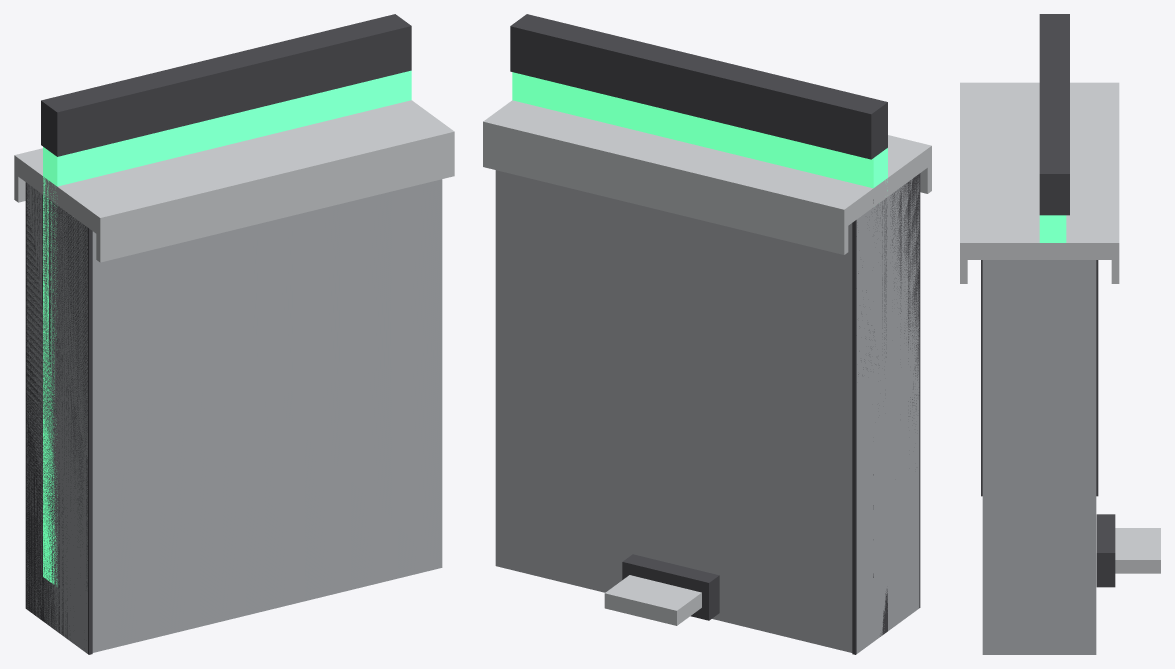
Rendered from factory_skin.glb.
3 views of the same model, side by side, from view 1: azimuth 30°, elevation 25°; view 2: azimuth 150°, elevation 25°; view 3: azimuth 270°, elevation 25° (orthographic). The views are drawn at different scales.
Visible parts, largest first — view 1: fp_parapet_mesh, fp_screen_mesh; view 2: fp_parapet_mesh, fp_screen_mesh; view 3: fp_parapet_mesh, fp_screen_mesh.
Boxes of the visible parts, left/top/right/bottom form: fp_parapet_mesh: left=14, top=100, right=454, bottom=654; fp_screen_mesh: left=41, top=14, right=411, bottom=622; fp_parapet_mesh: left=483, top=100, right=931, bottom=654; fp_screen_mesh: left=510, top=14, right=887, bottom=636; fp_parapet_mesh: left=960, top=82, right=1160, bottom=654; fp_screen_mesh: left=1039, top=14, right=1069, bottom=242.
Size of the model in its own units: 1 by 1.4 by 0.53.
